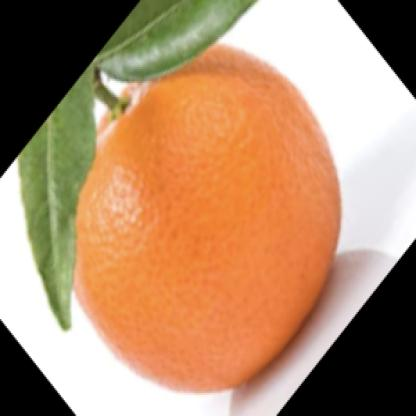fresh: (67, 34, 341, 390)
